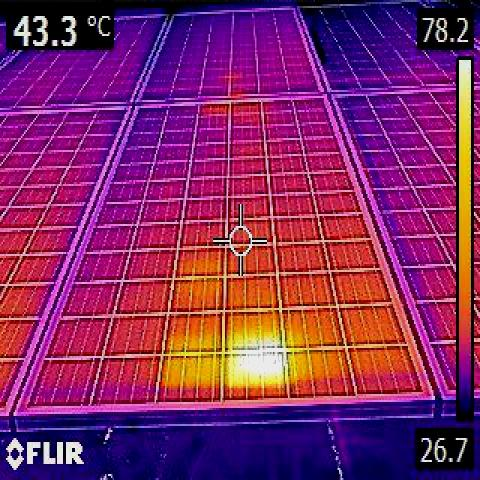fault: (228, 348, 284, 388)
